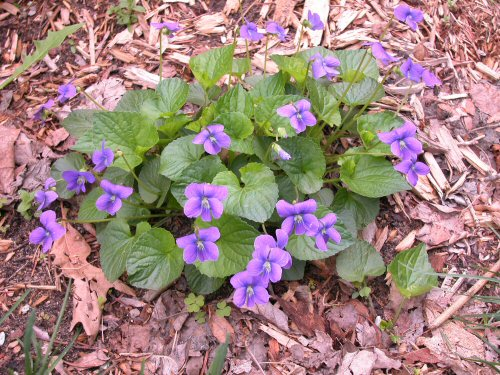violet: (248, 231, 302, 280), (275, 186, 318, 243), (226, 265, 279, 311), (177, 177, 231, 221), (24, 212, 73, 256), (172, 225, 225, 264), (91, 175, 144, 214), (187, 118, 235, 160), (272, 94, 319, 133), (381, 119, 429, 156), (308, 206, 342, 257), (390, 58, 439, 91), (389, 153, 432, 190), (302, 50, 346, 84), (393, 4, 428, 35), (60, 167, 96, 194), (233, 19, 265, 49), (88, 144, 121, 170), (298, 8, 326, 37), (262, 21, 291, 47)
